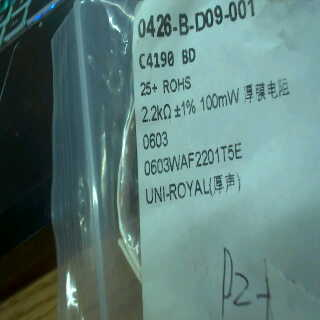2.2kR: (140, 100, 172, 127)
